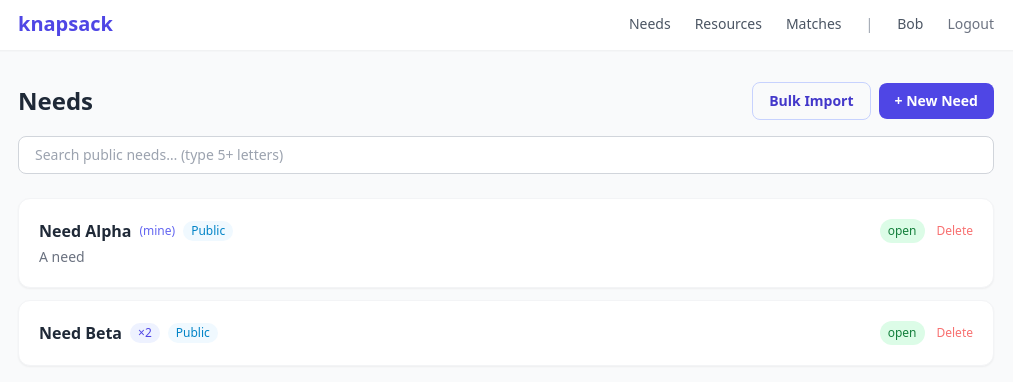
Test: NeedsPage › shows remaining-letters hint while query has fewer than 5 alpha chars
This screenshot has width=1013, height=382.
In the field with placeholder "Search public needs… (type 5+ letters)": (506, 155) [18, 136, 994, 174], type "abc"
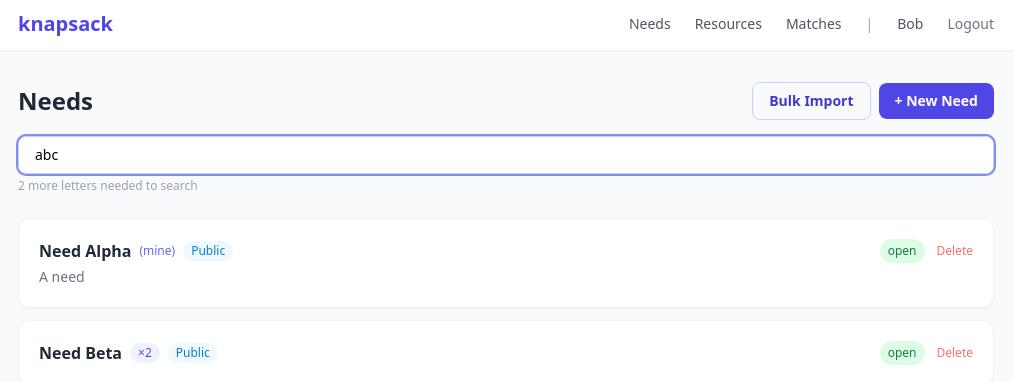
expect the text "2 more letters needed to search" is shown: met, box [18, 177, 198, 194]
